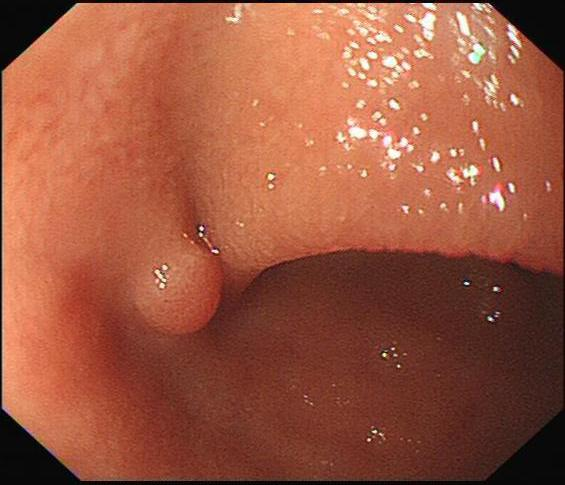Polyp: (129, 245, 225, 338)
